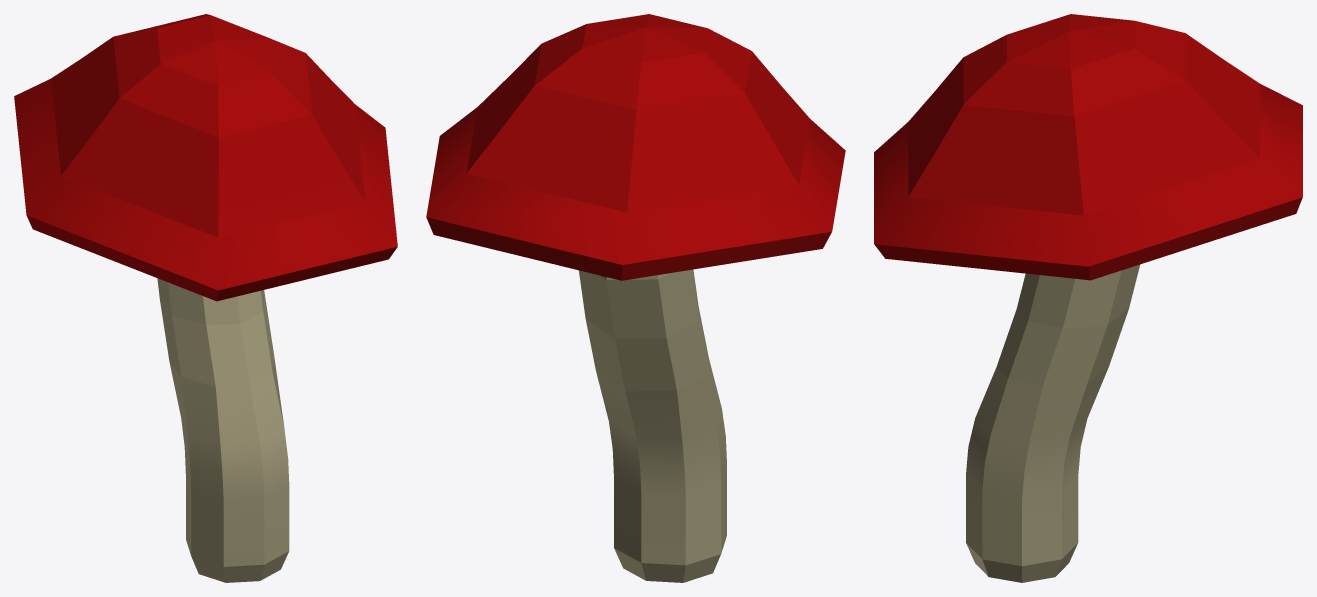
The model's file is Champignon_01.fbx.
The picture shows the model from 3 angles, left to right: view 1: azimuth 30°, elevation 25°; view 2: azimuth 150°, elevation 25°; view 3: azimuth 270°, elevation 25°; orthographic projection. The views are drawn at different scales.
Visible parts, largest first — view 1: Champignon_01; view 2: Champignon_01; view 3: Champignon_01.
Boxes of the visible parts, left/top/right/bottom form: Champignon_01: left=14, top=14, right=397, bottom=582; Champignon_01: left=426, top=14, right=845, bottom=582; Champignon_01: left=874, top=14, right=1302, bottom=582.
Bounding box in the file's own units: 2.6 × 3.5 × 2.56.
